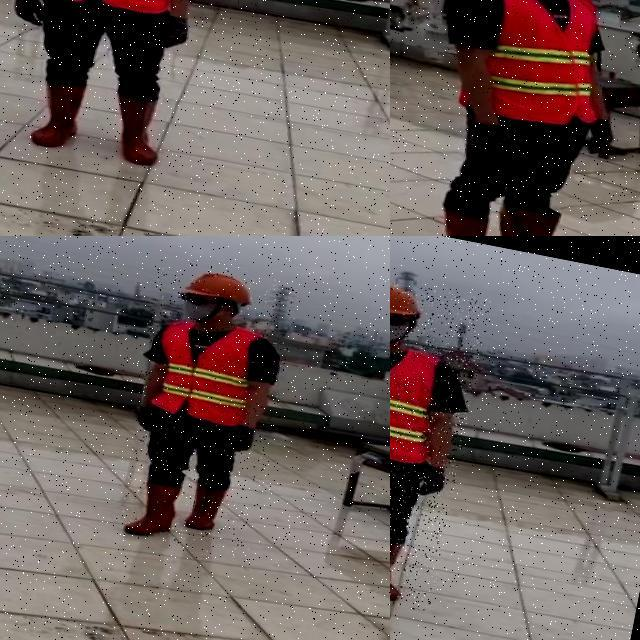boots: (101, 90, 176, 170), (26, 76, 88, 152), (414, 200, 531, 236), (493, 199, 603, 236), (123, 476, 183, 541), (186, 481, 230, 533), (390, 530, 412, 603)
helmet: (178, 265, 260, 310), (390, 275, 425, 324)
vest: (436, 0, 617, 135), (146, 314, 262, 428), (390, 333, 449, 469)
